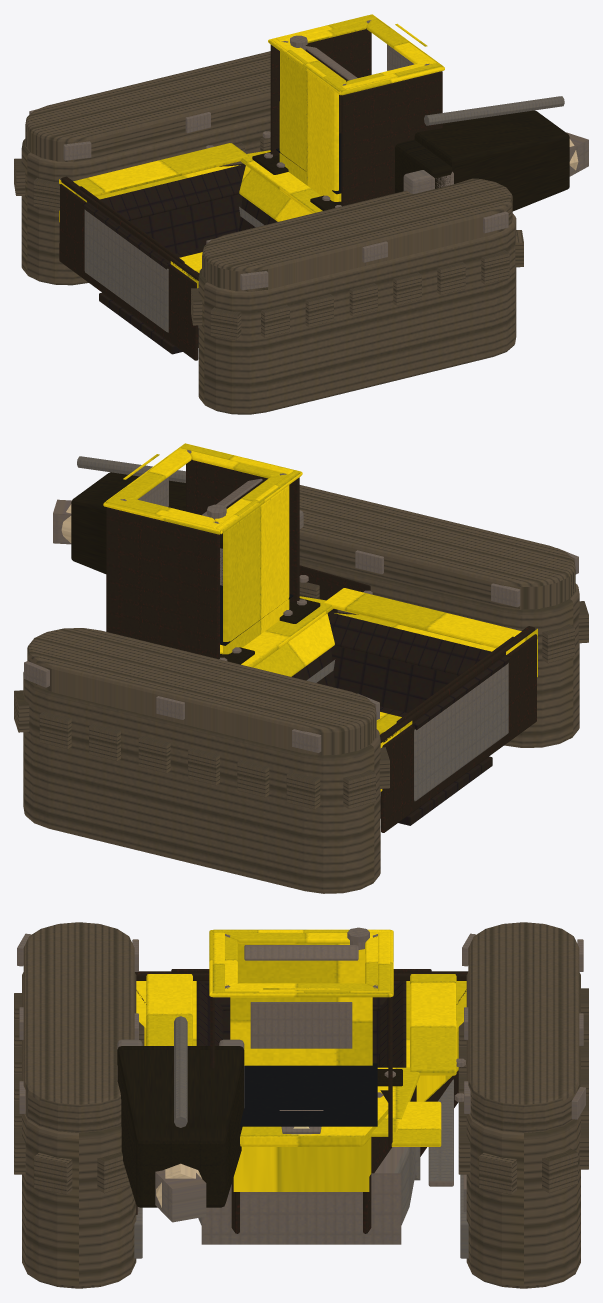
The model's file is rover_lod0.glb.
3 renders of one model, top to bottom at view 1: azimuth 30°, elevation 25°; view 2: azimuth 150°, elevation 25°; view 3: azimuth 270°, elevation 25°, orthographic. The views are drawn at different scales.
Visible parts, largest first — view 1: LOD0_Merged_Material_Track, LOD0_Merged_Material_Livery, LOD0_Merged_Material_Scar, LOD0_Merged_Material_Chevron_Boom, LOD0_Merged_Material_Rubble, track_R, hopper_lid, LOD0_Merged_Material_Steel, LOD0_Merged_Material_Steel_Boom, track_L, hopper_fill_0, LOD0_Merged_Material_Chevron; view 2: LOD0_Merged_Material_Track, LOD0_Merged_Material_Scar, LOD0_Merged_Material_Livery, LOD0_Merged_Material_Rubble, track_L, hopper_lid, LOD0_Merged_Material_Steel, LOD0_Merged_Material_Chevron_Boom, track_R, LOD0_Merged_Material_Steel_Boom, hopper_fill_0, scar_plate (+1 smaller); view 3: LOD0_Merged_Material_Track, LOD0_Merged_Material_Livery, LOD0_Merged_Material_Steel, LOD0_Merged_Material_Chevron_Boom, LOD0_Merged_Material_Glass, track_L, LOD0_Merged_Material_Rubble, track_R, LOD0_Merged_Material_Steel_Boom, LOD0_Merged_Material_Scar, LOD0_Merged_Material_Bit_Boom.
Part boxes in pixels (<box>): LOD0_Merged_Material_Track: <box>21,51,516,414</box>; LOD0_Merged_Material_Livery: <box>59,14,444,288</box>; LOD0_Merged_Material_Scar: <box>59,28,442,360</box>; LOD0_Merged_Material_Chevron_Boom: <box>395,110,569,211</box>; LOD0_Merged_Material_Rubble: <box>83,164,277,269</box>; track_R: <box>191,230,523,340</box>; hopper_lid: <box>84,209,168,332</box>; LOD0_Merged_Material_Steel: <box>29,20,508,327</box>; LOD0_Merged_Material_Steel_Boom: <box>403,96,588,193</box>; track_L: <box>14,137,270,210</box>; hopper_fill_0: <box>99,292,198,354</box>; LOD0_Merged_Material_Chevron: <box>252,152,341,210</box>; LOD0_Merged_Material_Track: <box>23,485,579,893</box>; LOD0_Merged_Material_Scar: <box>106,459,537,832</box>; LOD0_Merged_Material_Livery: <box>103,443,537,791</box>; LOD0_Merged_Material_Rubble: <box>292,612,510,730</box>; track_L: <box>14,690,389,809</box>; hopper_lid: <box>414,663,508,801</box>; LOD0_Merged_Material_Steel: <box>24,450,578,795</box>; LOD0_Merged_Material_Chevron_Boom: <box>71,472,222,584</box>; track_R: <box>299,582,588,663</box>; LOD0_Merged_Material_Steel_Boom: <box>53,456,303,585</box>; hopper_fill_0: <box>380,756,492,825</box>; scar_plate: <box>299,565,370,611</box>; LOD0_Merged_Material_Track: <box>22,922,580,1288</box>; LOD0_Merged_Material_Livery: <box>136,929,466,1191</box>; LOD0_Merged_Material_Steel: <box>17,927,585,1258</box>; LOD0_Merged_Material_Chevron_Boom: <box>117,1046,244,1207</box>; LOD0_Merged_Material_Glass: <box>240,1063,377,1126</box>; track_L: <box>458,988,588,1194</box>; LOD0_Merged_Material_Rubble: <box>196,980,406,1067</box>; track_R: <box>14,993,144,1194</box>; LOD0_Merged_Material_Steel_Boom: <box>117,1016,244,1222</box>; LOD0_Merged_Material_Scar: <box>135,969,468,1233</box>; LOD0_Merged_Material_Bit_Boom: <box>156,1163,201,1207</box>.
Size of the model in its own units: 1.96 by 1.03 by 1.81.
Materials: 1 (1 with a texture image).
